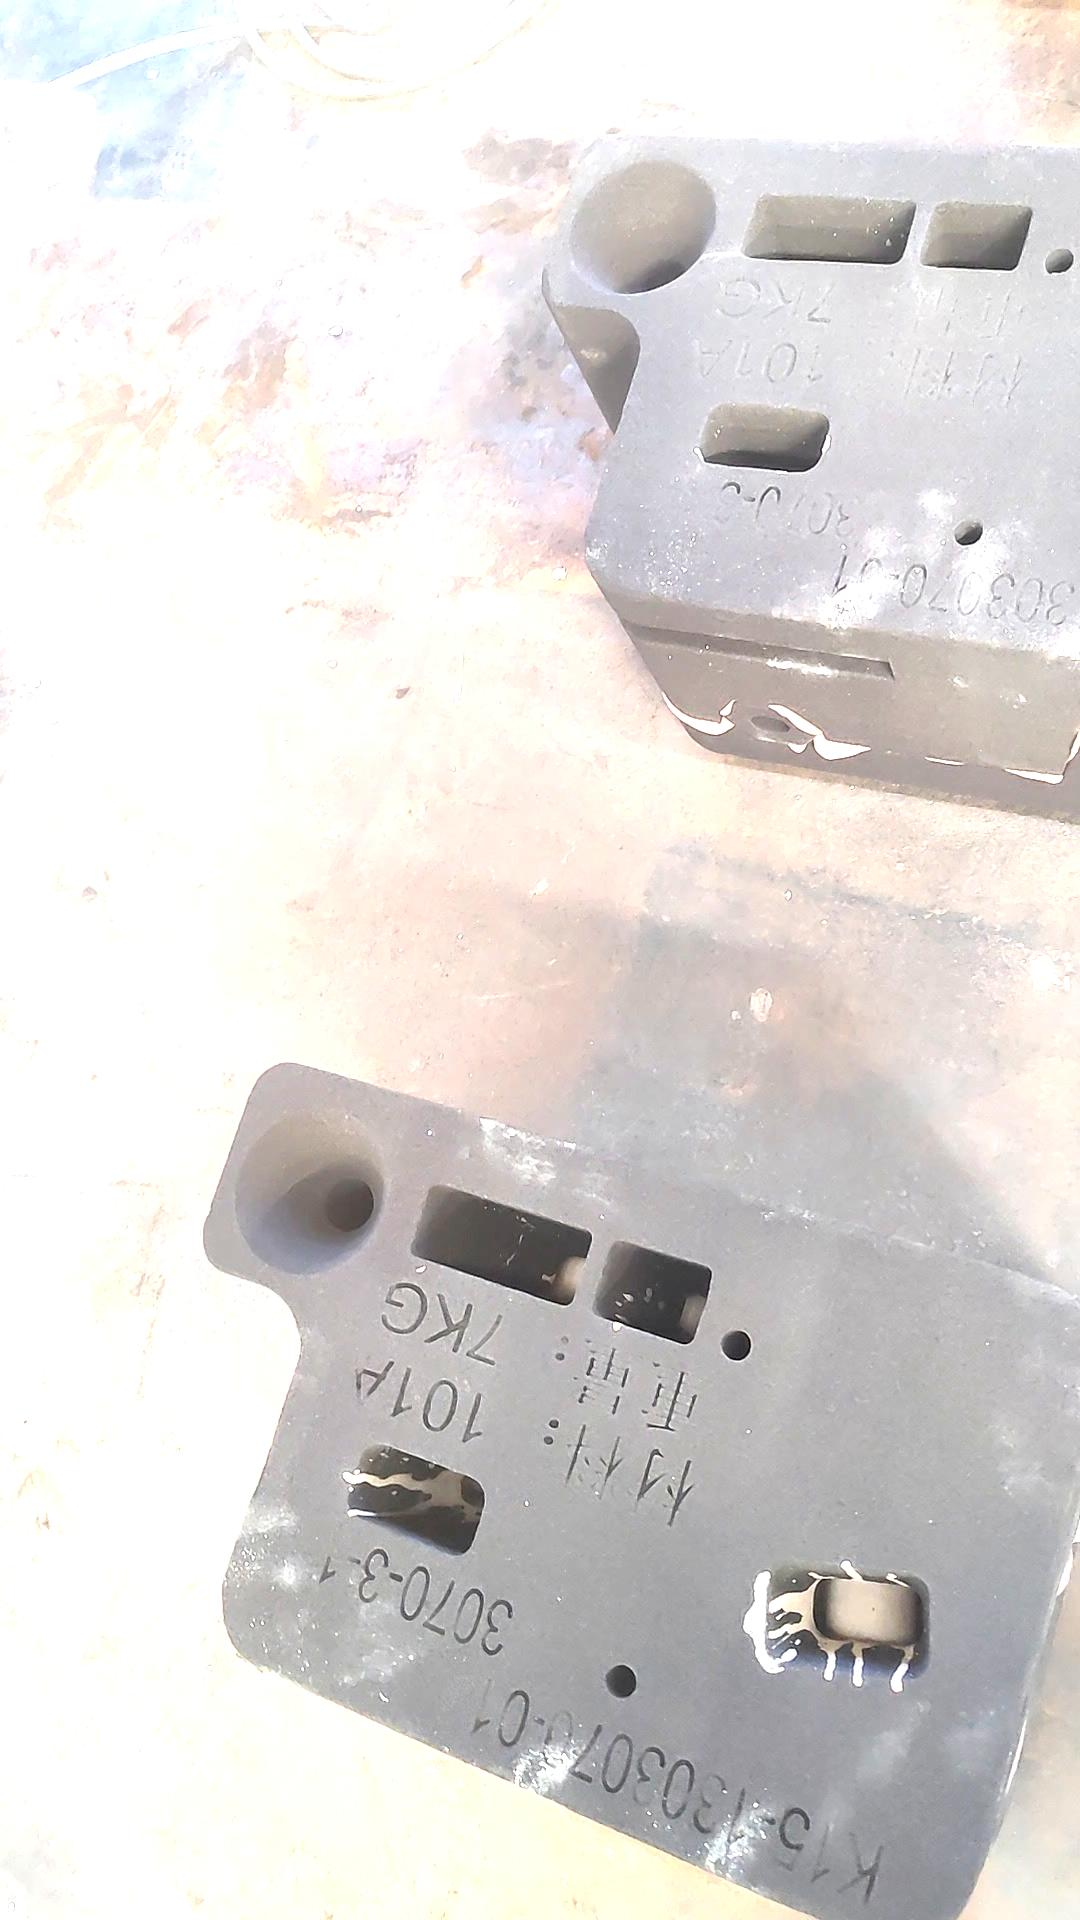pouring hole: (233, 1106, 389, 1274), (566, 160, 717, 294)
